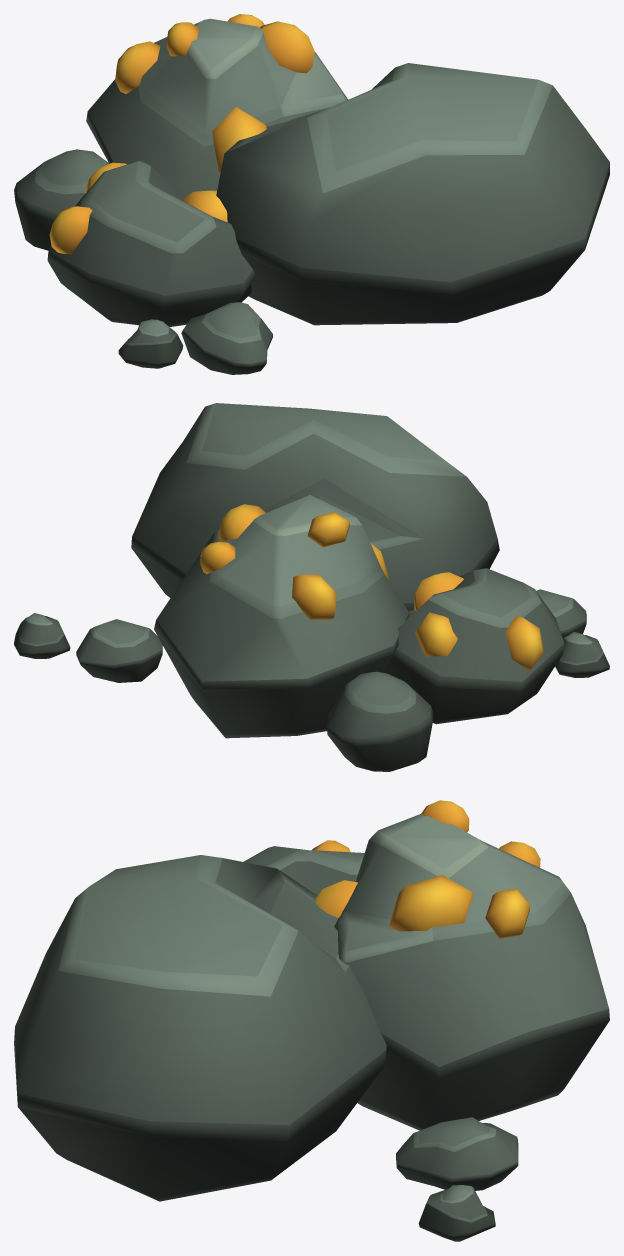
The model's file is arangement_nugget_ore_S.fbx.
The picture shows the model from 3 angles, top to bottom: view 1: azimuth 30°, elevation 25°; view 2: azimuth 150°, elevation 25°; view 3: azimuth 270°, elevation 25°; orthographic projection. The views are drawn at different scales.
Visible parts, largest first — view 1: arangement_nugget_ore_S; view 2: arangement_nugget_ore_S; view 3: arangement_nugget_ore_S.
Part boxes in pixels (left/top/right/bottom): arangement_nugget_ore_S: left=14, top=14, right=609, bottom=374; arangement_nugget_ore_S: left=14, top=403, right=609, bottom=771; arangement_nugget_ore_S: left=14, top=800, right=609, bottom=1241.
Bounding box in the file's own units: 297 × 136 × 255.
1 material, 1 textured.
